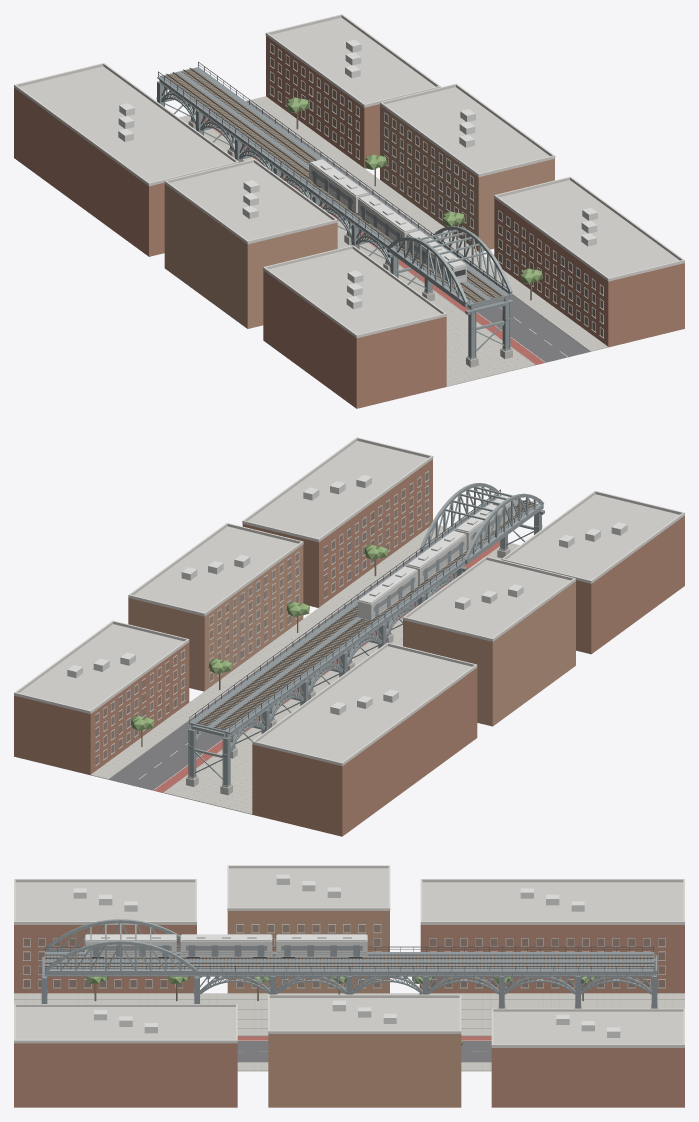
Rendered from clay-rail-through-truss-clay-v001.glb.
The picture shows the model from 3 angles, top to bottom: view 1: azimuth 30°, elevation 25°; view 2: azimuth 150°, elevation 25°; view 3: azimuth 270°, elevation 25°; orthographic projection. The views are drawn at different scales.
Visible parts, largest first — view 1: CLAY_ROOF, CLAY_BRICK, CLAY_BRICK2, CLAY_TRIM, CLAY_PAVING, CLAY_PLATE, CLAY_STEEL, CLAY_PALE, CLAY_GLASS, CLAY_TIMBER, CLAY_ASPHALT, CLAY_HARDWARE (+4 smaller); view 2: CLAY_ROOF, CLAY_BRICK, CLAY_BRICK2, CLAY_TRIM, CLAY_PAVING, CLAY_PLATE, CLAY_STEEL, CLAY_PALE, CLAY_GLASS, CLAY_TIMBER, CLAY_ASPHALT, CLAY_HARDWARE (+5 smaller); view 3: CLAY_BRICK, CLAY_ROOF, CLAY_BRICK2, CLAY_PLATE, CLAY_TRIM, CLAY_PAVING, CLAY_STEEL, CLAY_HARDWARE, CLAY_PALE, CLAY_GLASS, CLAY_SILVER, CLAY_TIMBER (+5 smaller).
Part boxes in pixels (x1,y1,x2,y2): CLAY_ROOF: (19, 17, 679, 334); CLAY_BRICK: (14, 36, 684, 408); CLAY_BRICK2: (164, 105, 554, 328); CLAY_TRIM: (14, 14, 684, 338); CLAY_PAVING: (179, 96, 608, 386); CLAY_PLATE: (156, 67, 513, 358); CLAY_STEEL: (158, 68, 512, 357); CLAY_PALE: (118, 39, 597, 309); CLAY_GLASS: (270, 44, 603, 336); CLAY_TIMBER: (165, 69, 531, 302); CLAY_ASPHALT: (246, 101, 590, 362); CLAY_HARDWARE: (158, 61, 509, 304); CLAY_ROOF: (19, 441, 679, 762); CLAY_BRICK: (14, 459, 684, 836); CLAY_BRICK2: (128, 545, 575, 726); CLAY_TRIM: (14, 437, 684, 765); CLAY_PAVING: (91, 525, 519, 814); CLAY_PLATE: (188, 495, 544, 786); CLAY_STEEL: (189, 483, 543, 785); CLAY_PALE: (67, 475, 627, 715); CLAY_GLASS: (96, 472, 507, 764); CLAY_TIMBER: (141, 499, 533, 746); CLAY_ASPHALT: (109, 551, 420, 790); CLAY_HARDWARE: (189, 489, 538, 732); CLAY_BRICK: (14, 925, 684, 1107); CLAY_ROOF: (15, 868, 683, 1044); CLAY_BRICK2: (227, 911, 461, 1107); CLAY_PLATE: (41, 945, 657, 1008); CLAY_TRIM: (14, 865, 684, 1047); CLAY_PAVING: (14, 993, 684, 1071); CLAY_STEEL: (42, 919, 657, 993); CLAY_HARDWARE: (45, 946, 653, 971); CLAY_PALE: (73, 874, 620, 1037); CLAY_GLASS: (23, 924, 665, 987); CLAY_SILVER: (85, 935, 367, 956); CLAY_TIMBER: (45, 954, 651, 1001).
Bounding box in the file's own units: 73.04 × 19.85 × 132.
